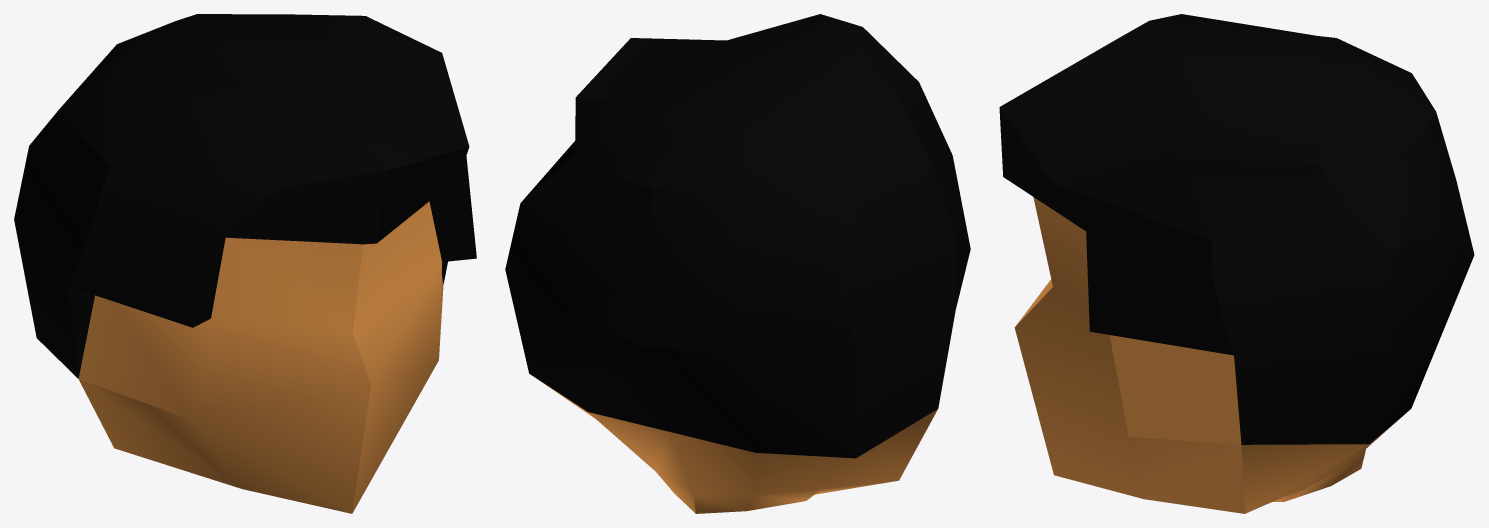
The model's file is head-test.fbx.
The picture shows the model from 3 angles, left to right: view 1: azimuth 30°, elevation 25°; view 2: azimuth 150°, elevation 25°; view 3: azimuth 270°, elevation 25°; orthographic projection. The views are drawn at different scales.
Parts seen in each view (by area): view 1: MStudent2.001; view 2: MStudent2.001; view 3: MStudent2.001.
Part boxes in pixels (<box>): MStudent2.001: <box>14,14,476,513</box>; MStudent2.001: <box>505,14,970,513</box>; MStudent2.001: <box>999,14,1474,513</box>.
Size of the model in its own units: 60.68 by 61.92 by 61.32.
